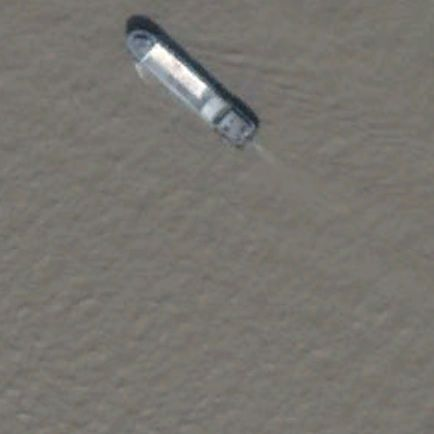boat: (125, 28, 260, 151)
